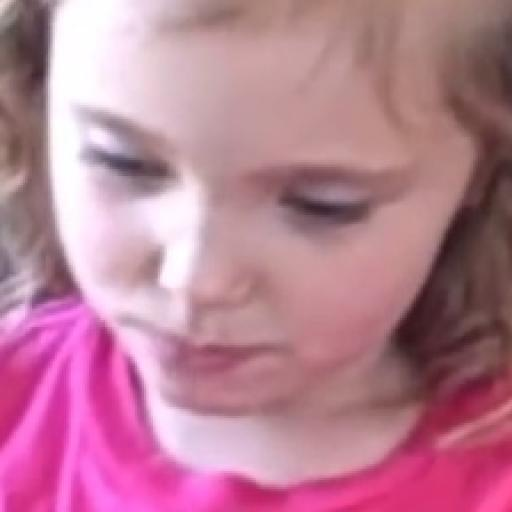Autism: (13, 10, 512, 470)
